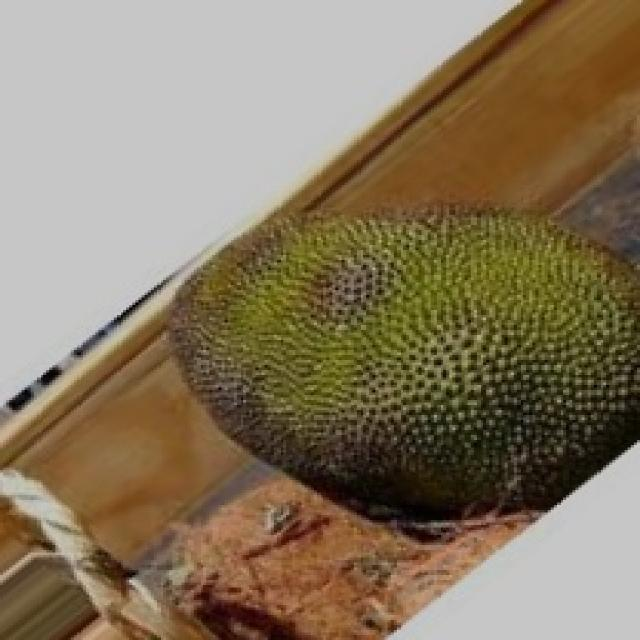Fruit: (227, 167, 640, 544)
